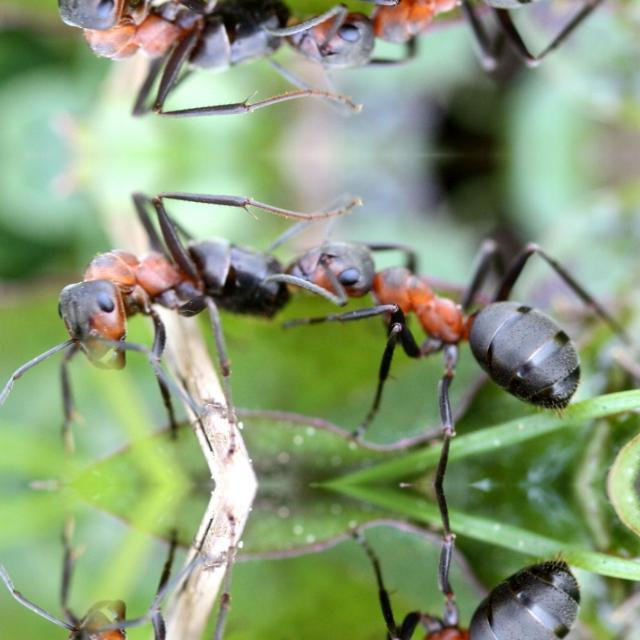Formica: (306, 220, 592, 422), (42, 205, 304, 388), (40, 0, 302, 102), (306, 546, 590, 640), (304, 0, 590, 86), (40, 580, 304, 640)
